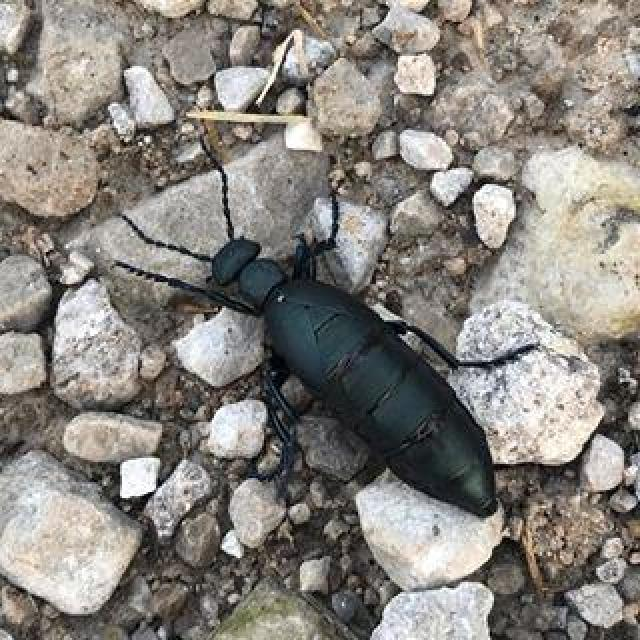BlisterBeetle-Adult-: (109, 114, 555, 524)
